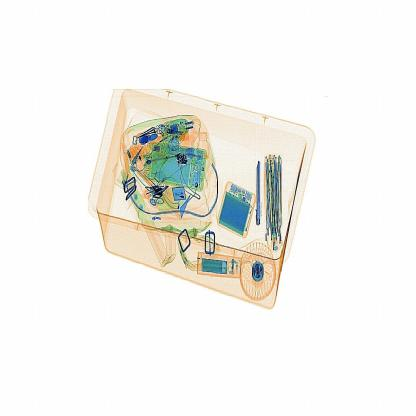pliers: (250, 159, 270, 226)
